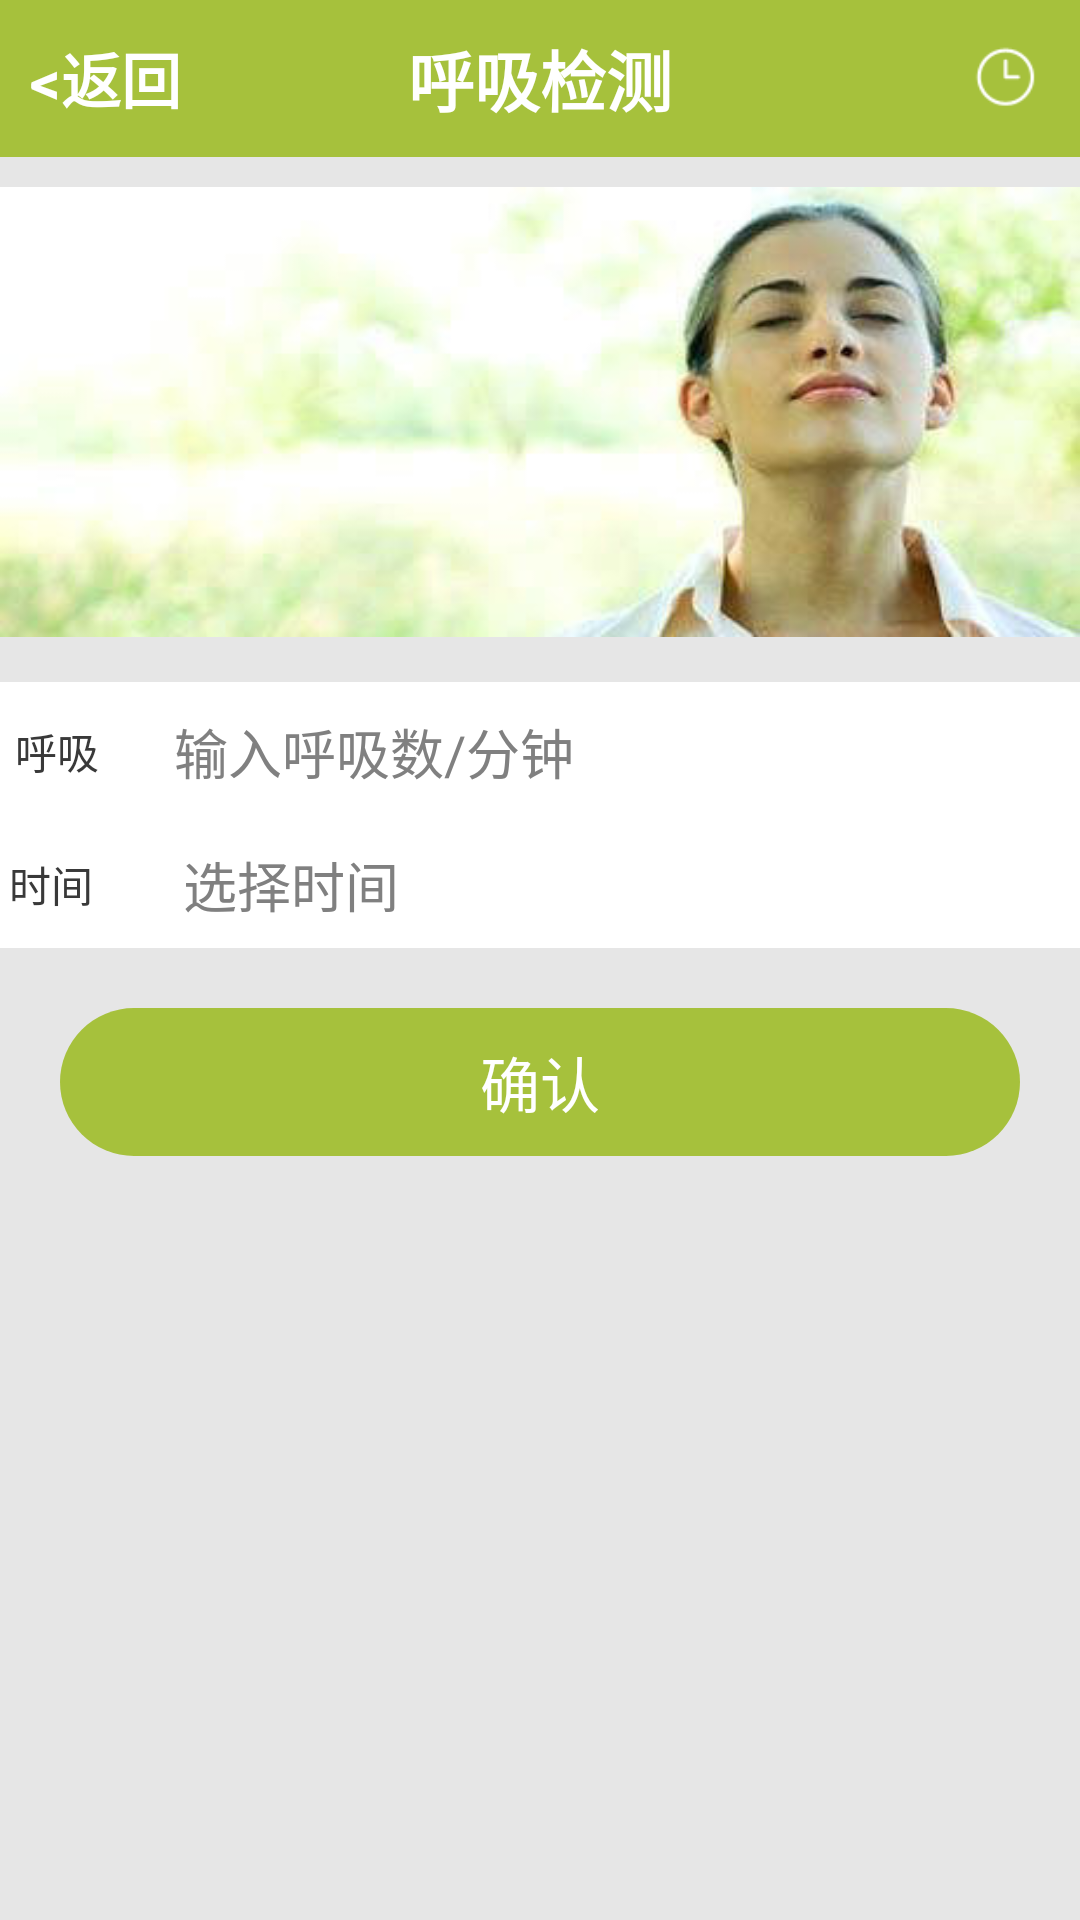

Screen size 1080px x 1920px. Icon name, then its center in pixels as (x,y):
pocket clock: (1005,76)
